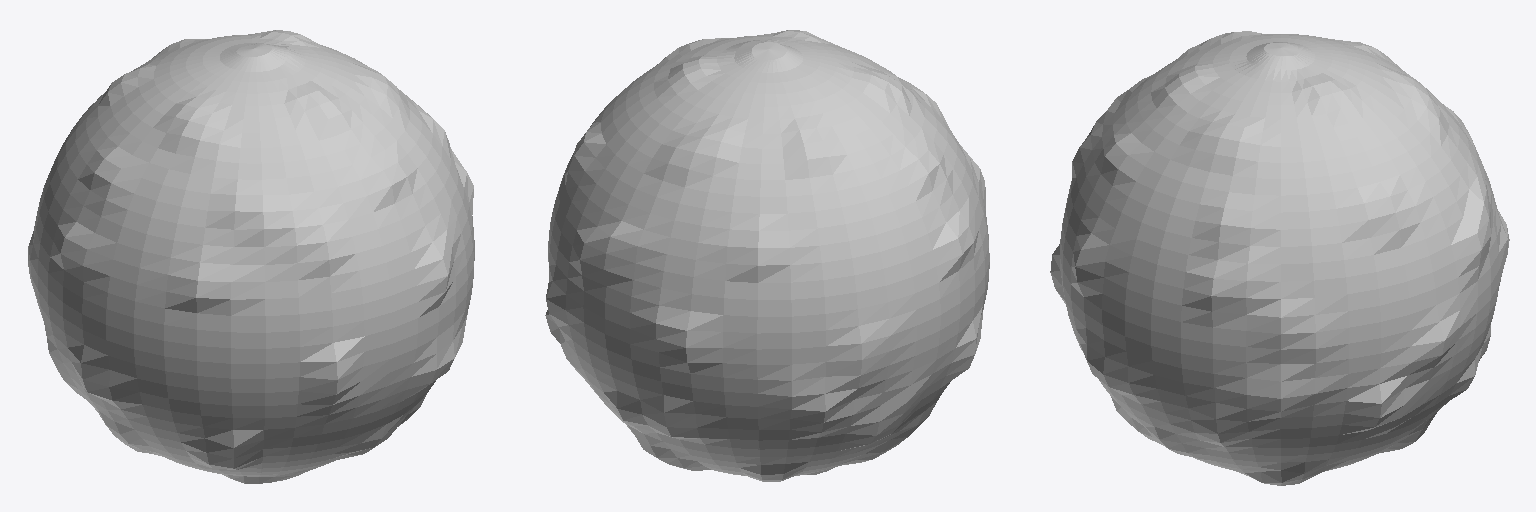
Rendered from woogieworld.obj.
3 views of the same model, side by side, from view 1: azimuth 30°, elevation 25°; view 2: azimuth 150°, elevation 25°; view 3: azimuth 270°, elevation 25° (orthographic).
Visible parts, largest first — view 1: pSphere1; view 2: pSphere1; view 3: pSphere1.
Boxes of the visible parts, box(x1,y1,x2,y2) form: pSphere1: box(28, 30, 474, 483); pSphere1: box(545, 30, 989, 481); pSphere1: box(1050, 31, 1509, 485).
Size of the model in its own units: 12.03 by 12.21 by 12.25.